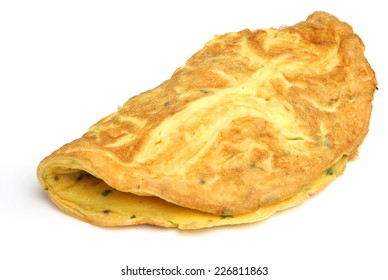Telur: (31, 8, 378, 254)
